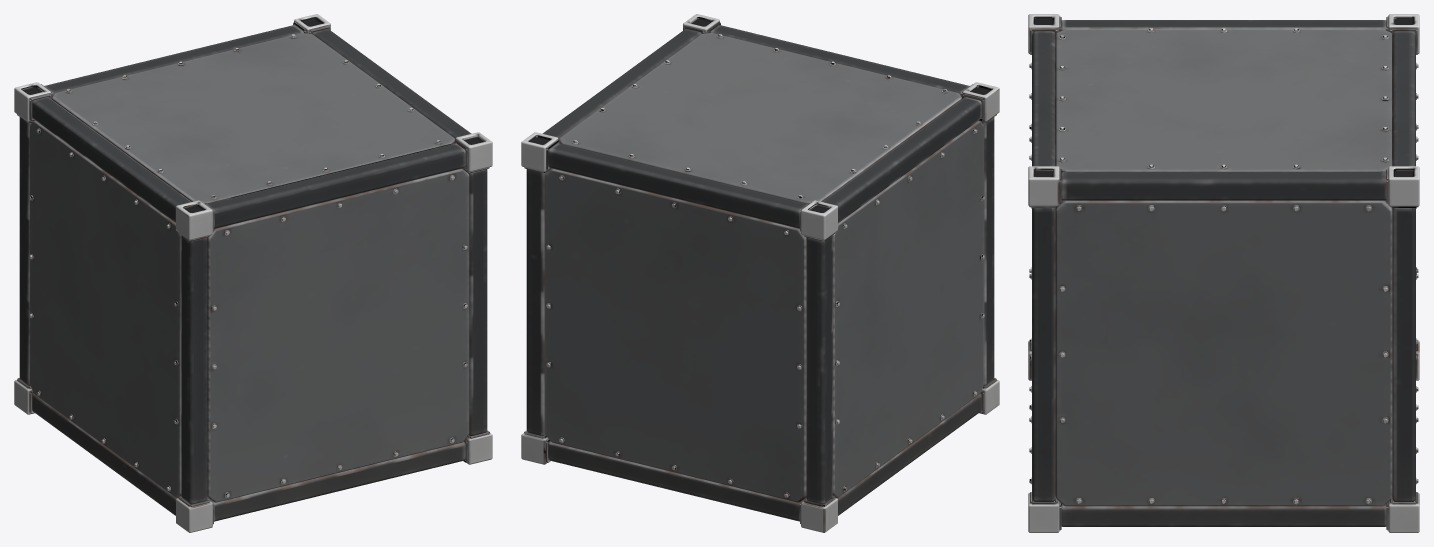
Rendered from SM_ShipHull.glb.
3 views of the same model, side by side, from view 1: azimuth 30°, elevation 25°; view 2: azimuth 150°, elevation 25°; view 3: azimuth 270°, elevation 25° (orthographic). The views are drawn at different scales.
Parts seen in each view (by area): view 1: SM_ShipHull; view 2: SM_ShipHull; view 3: SM_ShipHull.
Boxes of the visible parts, x1,y1,x2,y2 form: SM_ShipHull: [14, 14, 492, 532]; SM_ShipHull: [521, 14, 999, 532]; SM_ShipHull: [1028, 14, 1419, 532].
Size of the model in its own units: 2 by 2 by 2.
Materials: 5 (5 with a texture image).
